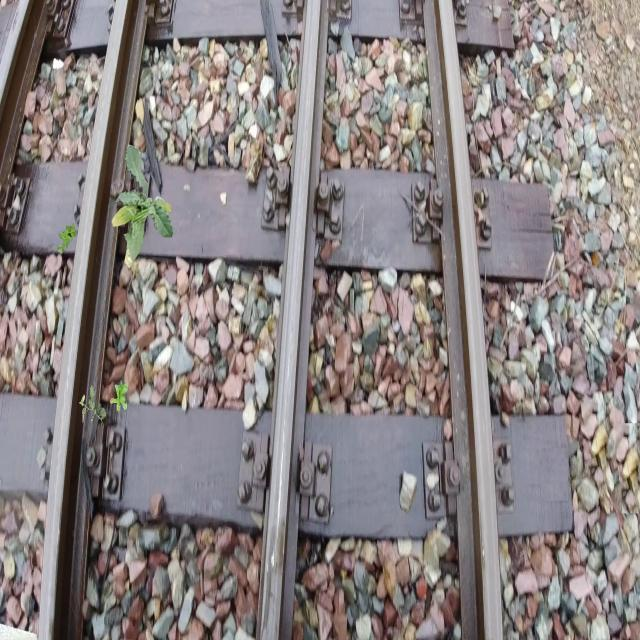Plant: (111, 144, 174, 268), (79, 385, 106, 426), (57, 222, 76, 254), (110, 381, 128, 413)
